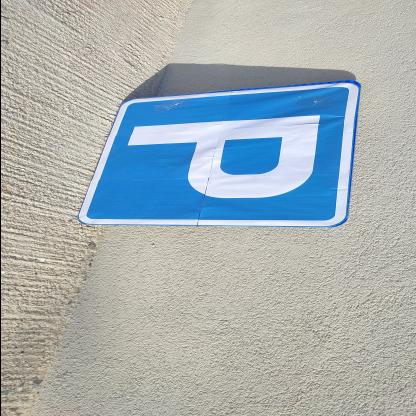Parking-Sign: (79, 81, 363, 229)
